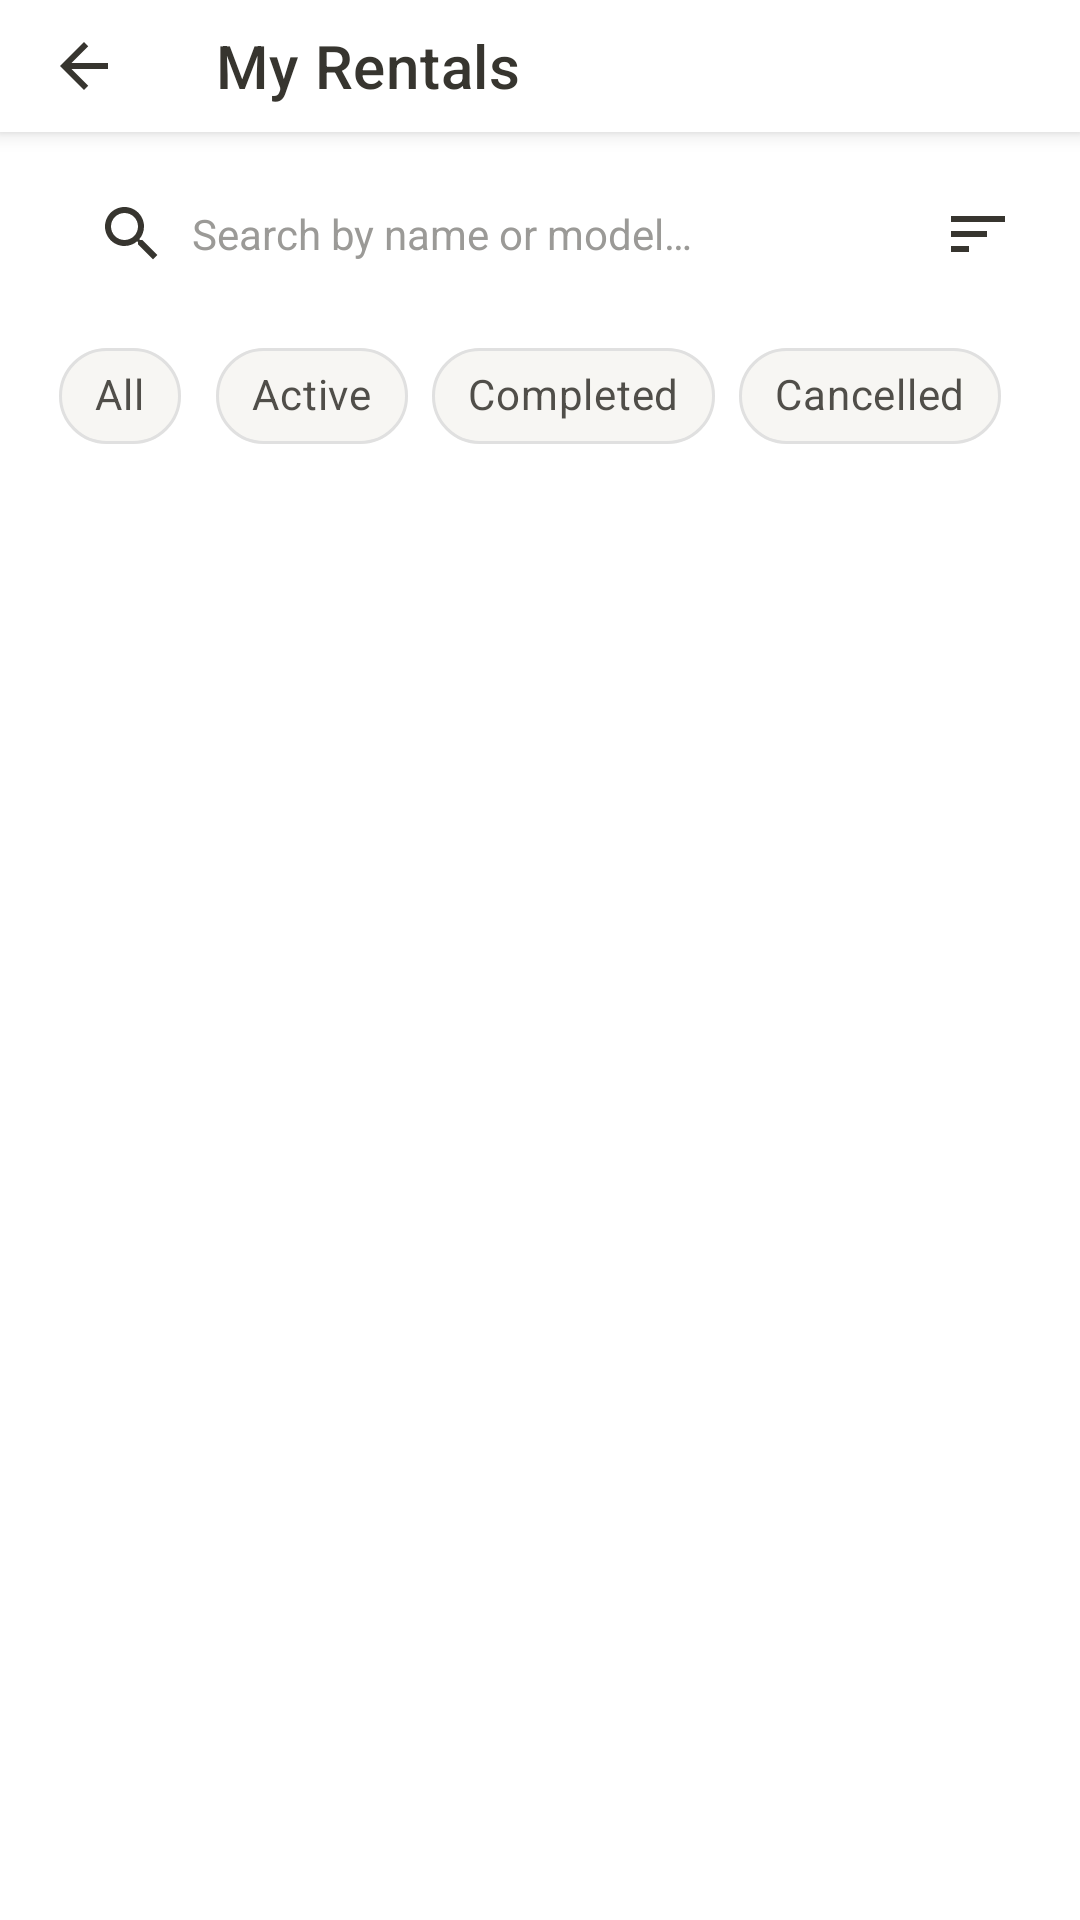

Icons on this 1080 × 1920 Android screen, each with its box as box=[x1, y1, x2, y2]:
Sort cars: box=[951, 216, 1005, 252]
